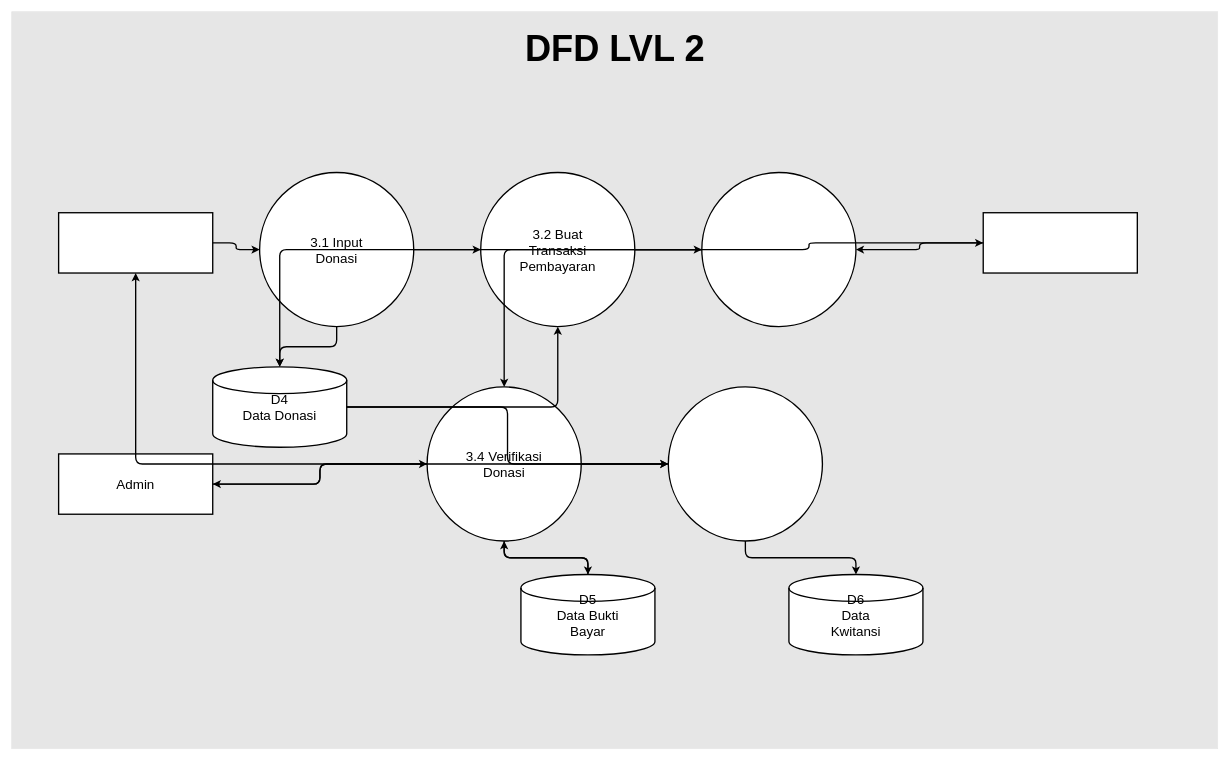
Image size: 1229x760. Some labels were removed from this diagram. The centre of each missing label's shape, as x and y in pixels:
"3.3 Proses Callback Midtrans" goes at point 778,249.
"3.5 Terbitkan Kwitansi dan Status" goes at point 745,463.
"Midtrans" goes at point 1060,242.
"Umat / Guest" goes at point 135,242.
